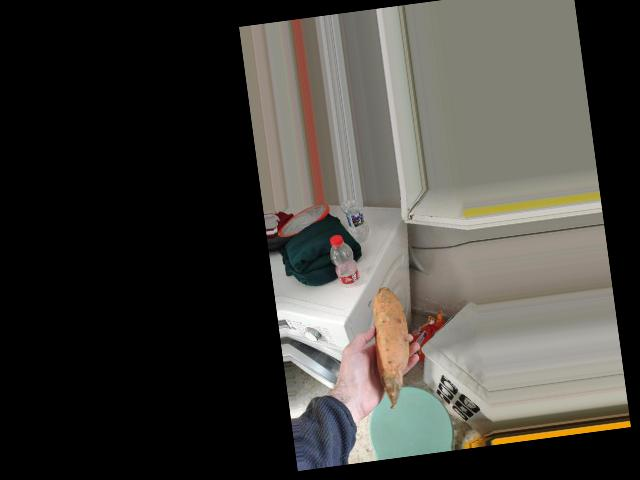sweet_potato: (359, 275, 413, 385)
